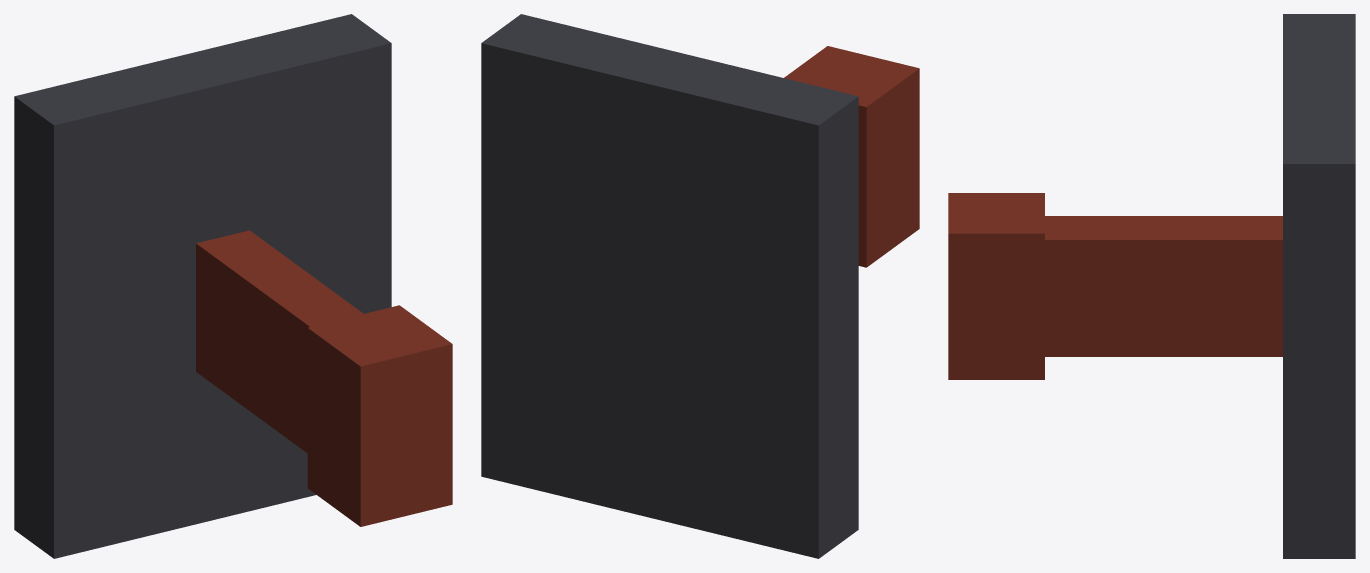
The model's file is Switch_Lever.obj.
The picture shows the model from 3 angles, left to right: view 1: azimuth 30°, elevation 25°; view 2: azimuth 150°, elevation 25°; view 3: azimuth 270°, elevation 25°; orthographic projection. The views are drawn at different scales.
Bounding box in the file's own units: 0.44 × 0.54 × 0.505.
